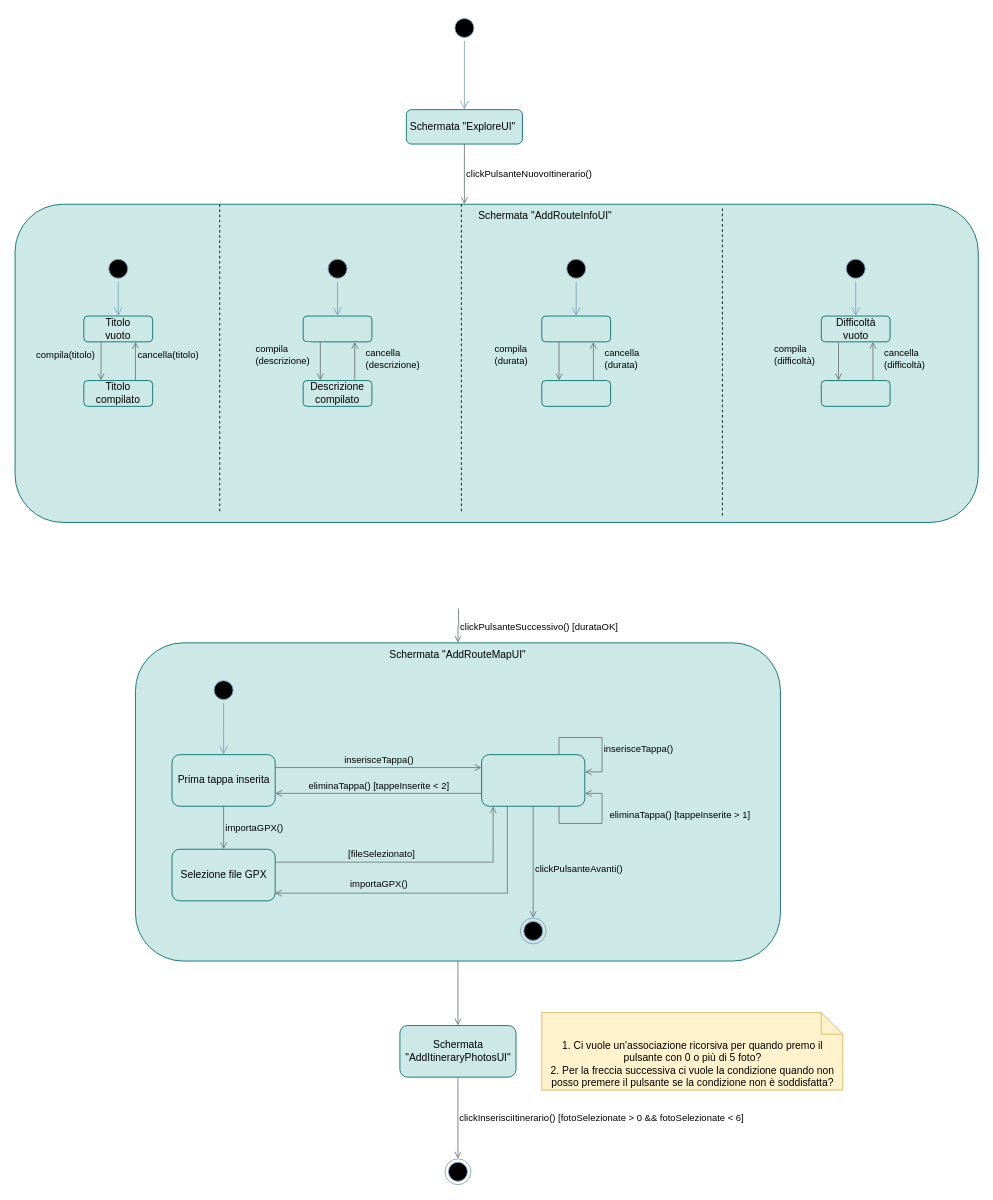
This 993x1200 diagram has some shape labels left out. Here are the shapes that lost their labels. From the top down, the box of each, then its label:
(302, 315, 372, 342): Descrizione vuoto
(541, 315, 611, 342): Durata vuoto
(541, 380, 611, 406): Durata compilato
(820, 380, 890, 406): Difficoltà compilato
(481, 754, 585, 806): Pronto per l'inserimento
